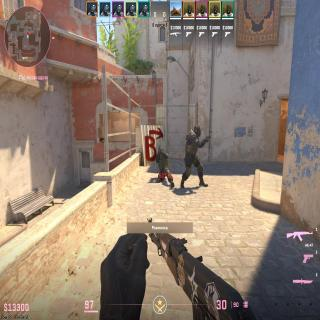CT-Body: (183, 124, 201, 186), (156, 146, 170, 183), (193, 125, 201, 137)
CT-Head: (159, 146, 163, 152)
